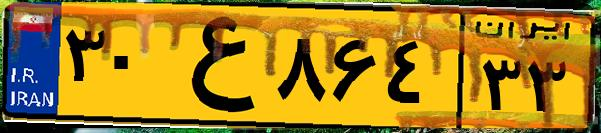0: (110, 28, 158, 98)
3: (57, 26, 110, 100), (475, 38, 525, 113), (525, 38, 570, 115)
4: (385, 28, 445, 110)
6: (330, 28, 385, 110)
8: (270, 28, 330, 110)
ع: (158, 12, 270, 120)
